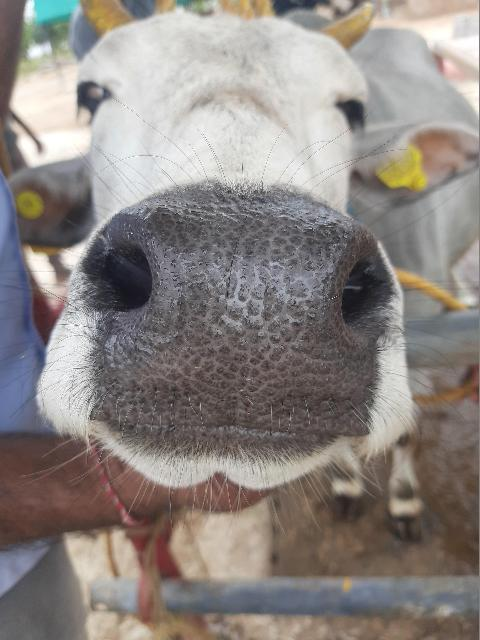Muzzle: (108, 210, 364, 424)
